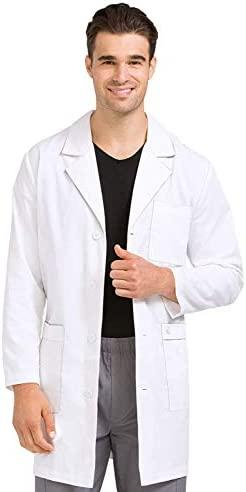lab_coat: (1, 110, 243, 486)
